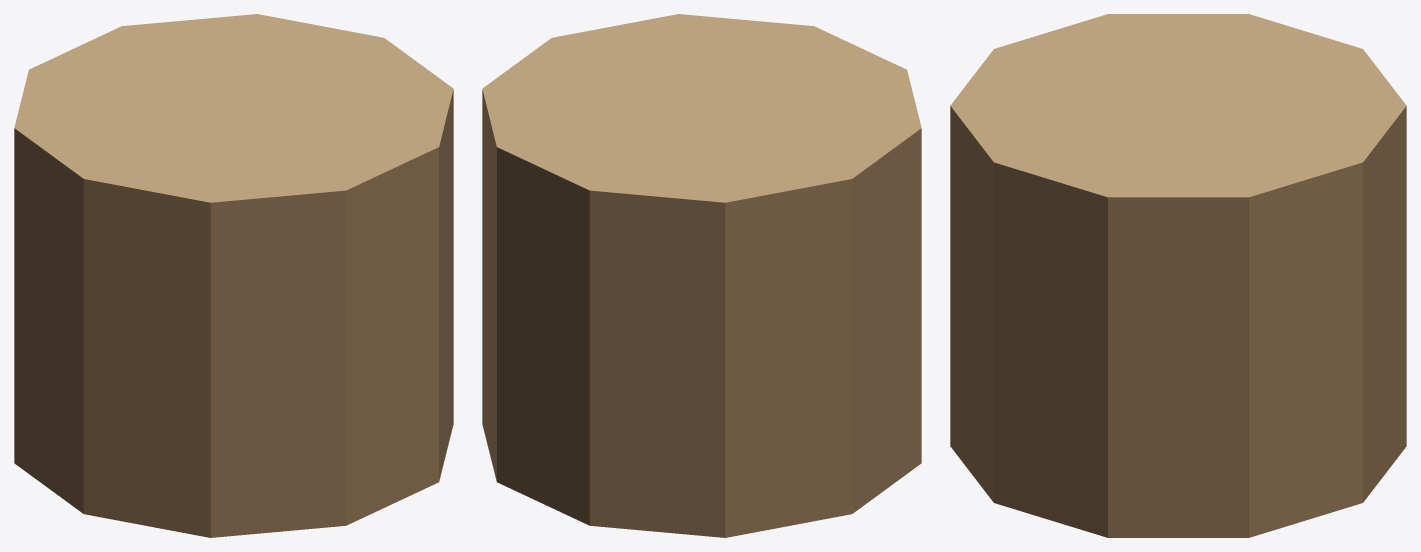
The model's file is tree_stump.glb.
3 views of the same model, side by side, from view 1: azimuth 30°, elevation 25°; view 2: azimuth 150°, elevation 25°; view 3: azimuth 270°, elevation 25° (orthographic).
Visible parts, largest first — view 1: TreeStump; view 2: TreeStump; view 3: TreeStump.
Boxes of the visible parts, x1,y1,x2,y2 form: TreeStump: (14,14,453,537); TreeStump: (482,14,921,537); TreeStump: (950,14,1406,537).
Bounding box in the file's own units: 0.3234 × 0.28 × 0.34.
